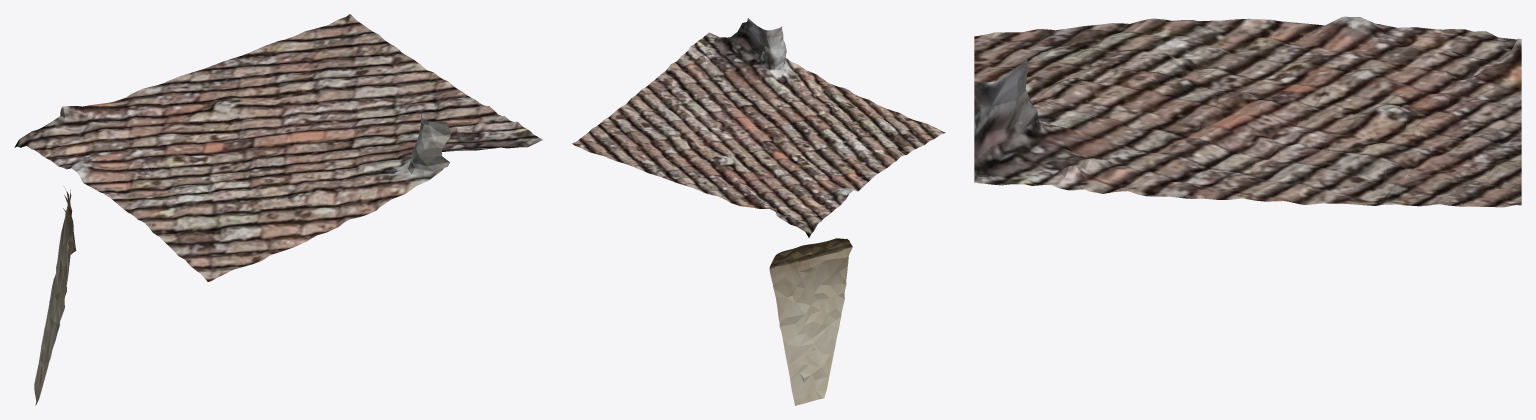
The picture shows the model from 3 angles, left to right: view 1: azimuth 30°, elevation 25°; view 2: azimuth 150°, elevation 25°; view 3: azimuth 270°, elevation 25°; orthographic projection. The views are drawn at different scales.
Size of the model in its own units: 3.35 by 3.35 by 3.35.
3 materials, 3 textured.
